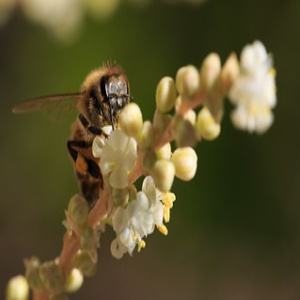bee: (9, 56, 135, 215)
